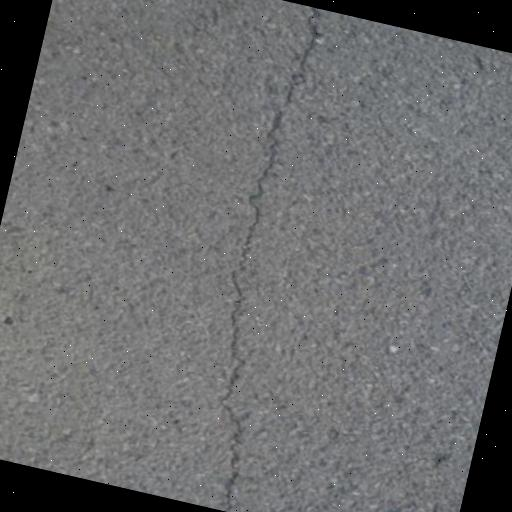spalling: (208, 16, 332, 507)
